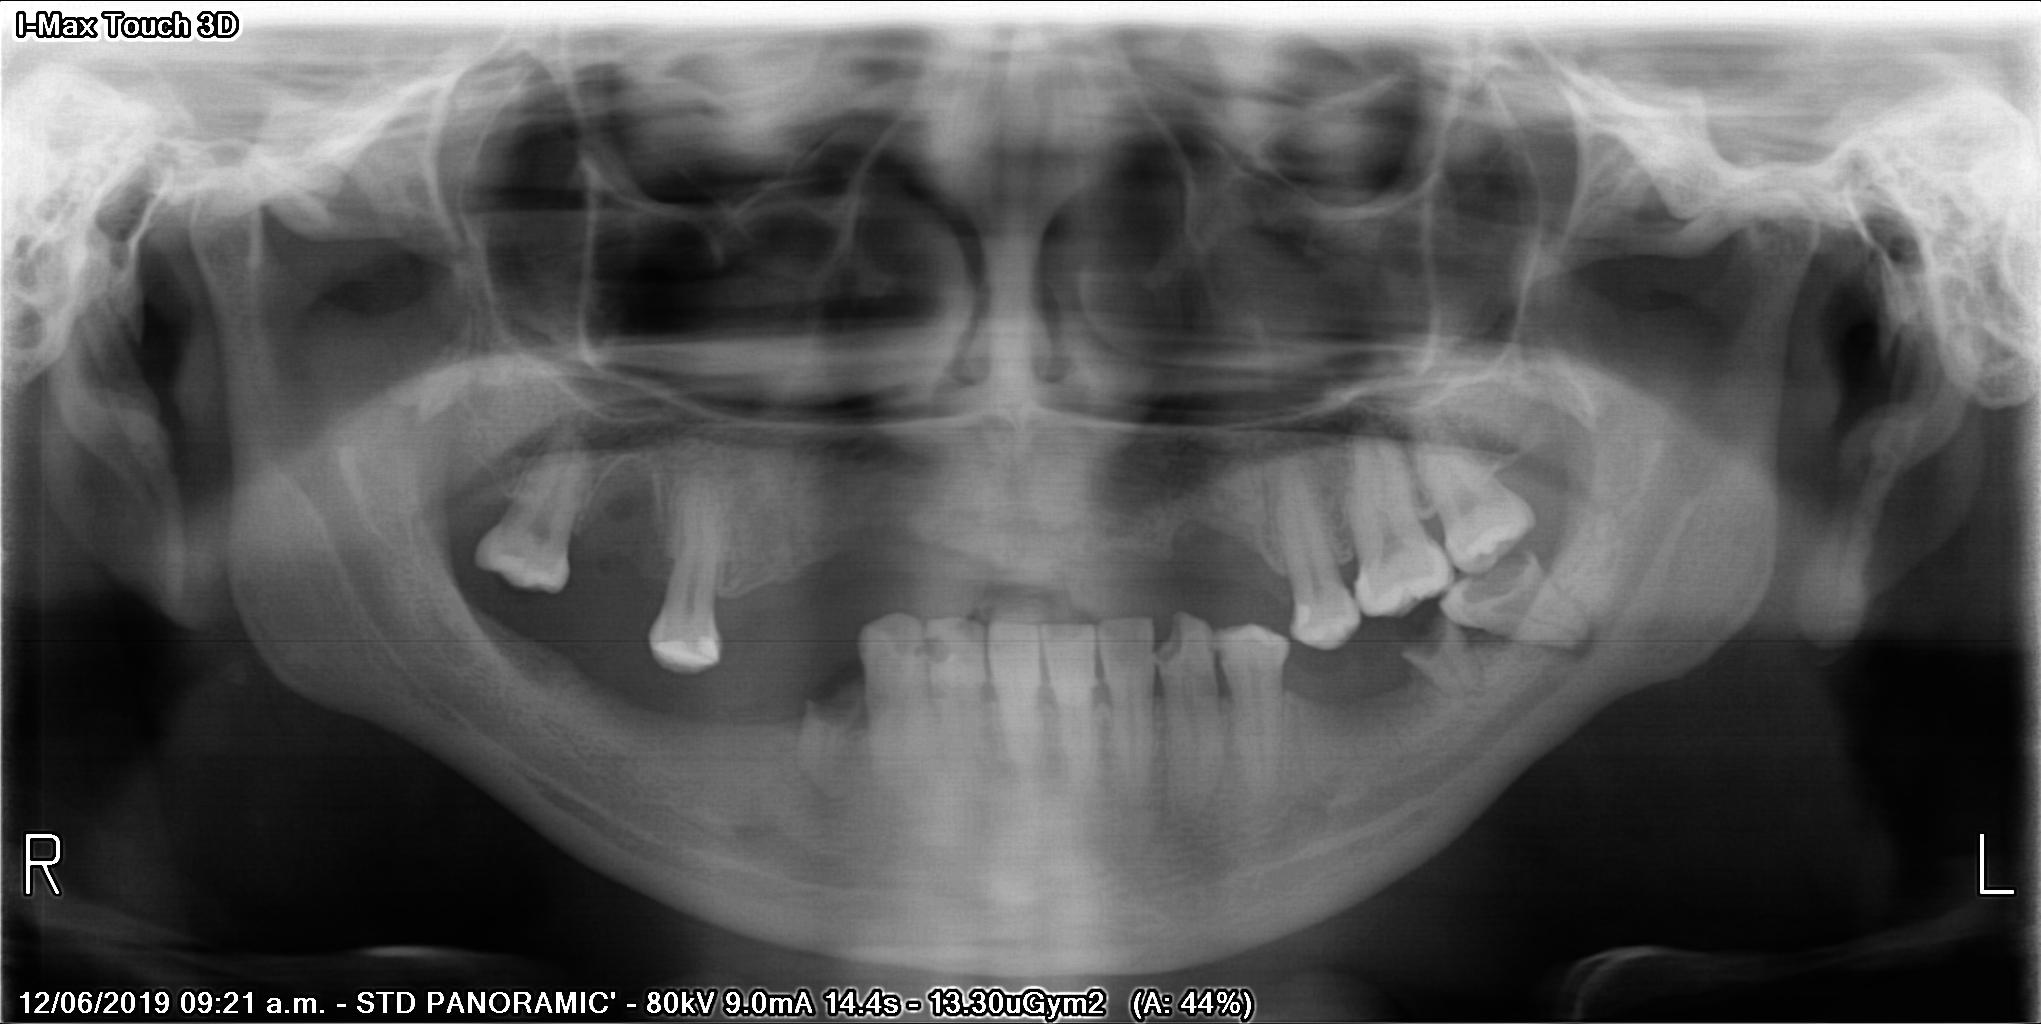Çürük: (636, 610, 733, 682), (1285, 590, 1319, 630)
Çürük Bölgesi: (1465, 569, 1537, 605), (812, 687, 868, 724), (1156, 620, 1183, 671), (1418, 609, 1446, 656), (921, 639, 948, 674), (1208, 635, 1234, 649)
